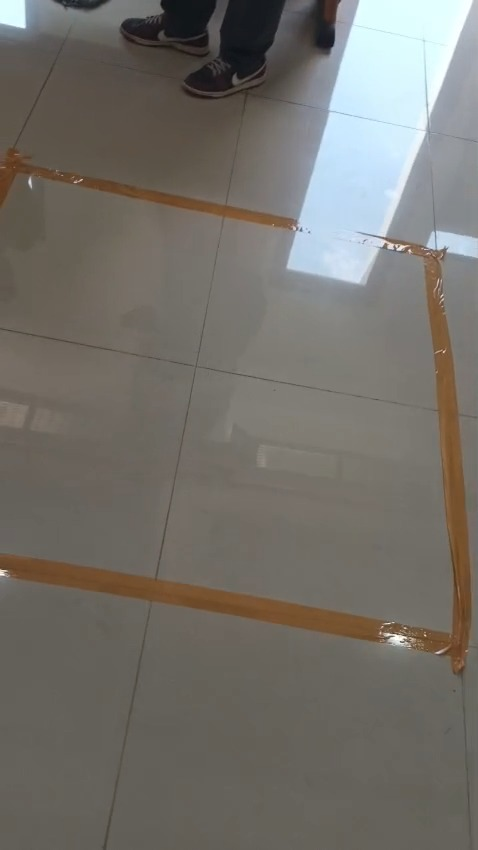floor marking: (0, 233, 471, 672), (0, 149, 301, 231)
